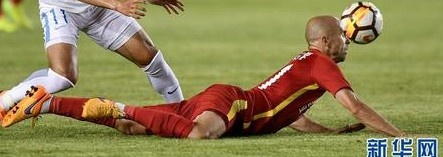falling: (5, 1, 396, 141)
